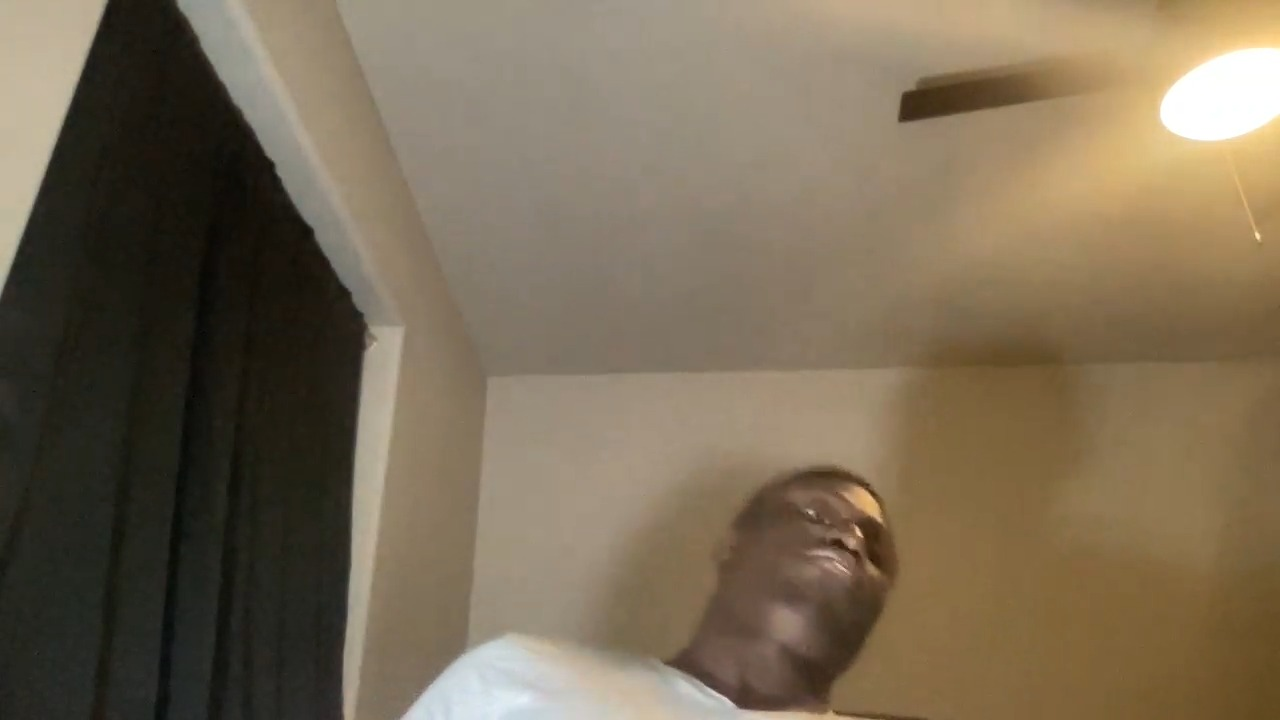face: (716, 461, 898, 669)
